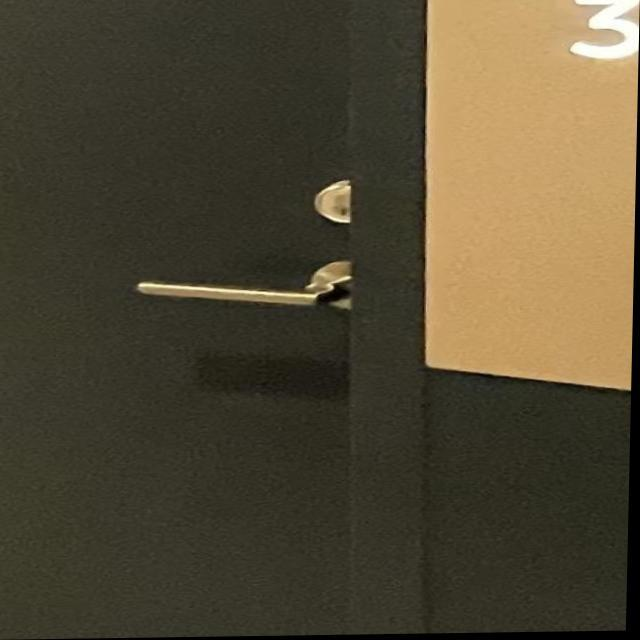door_handle: (121, 252, 378, 336)
